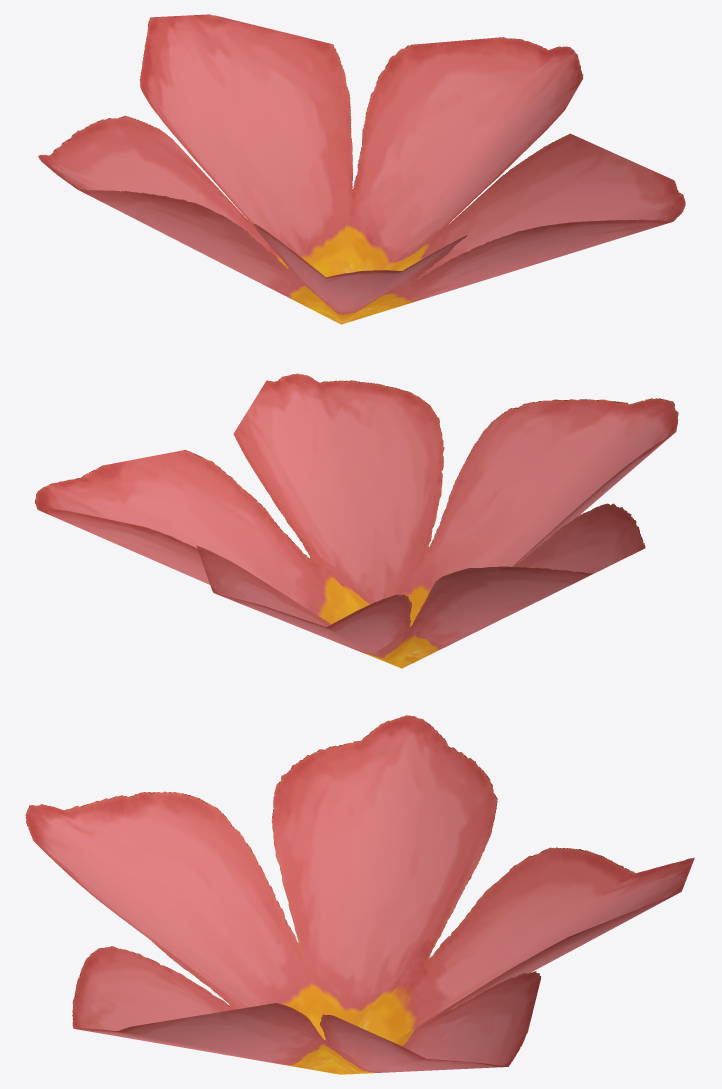
Rendered from Petal_5.glb.
3 renders of one model, top to bottom at view 1: azimuth 30°, elevation 25°; view 2: azimuth 150°, elevation 25°; view 3: azimuth 270°, elevation 25°, orthographic. The views are drawn at different scales.
Parts seen in each view (by area): view 1: Petal_5; view 2: Petal_5; view 3: Petal_5.
Part boxes in pixels (x1,y1,x2,y2): Petal_5: (38,14,685,324); Petal_5: (35,373,678,668); Petal_5: (25,715,694,1074).
Size of the model in its own units: 0.834 by 0.2888 by 0.7952.
1 material, 1 textured.
